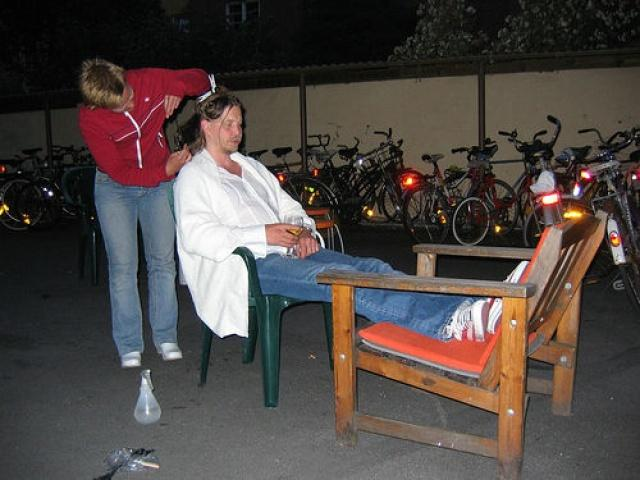Kursi: (315, 208, 608, 479)
